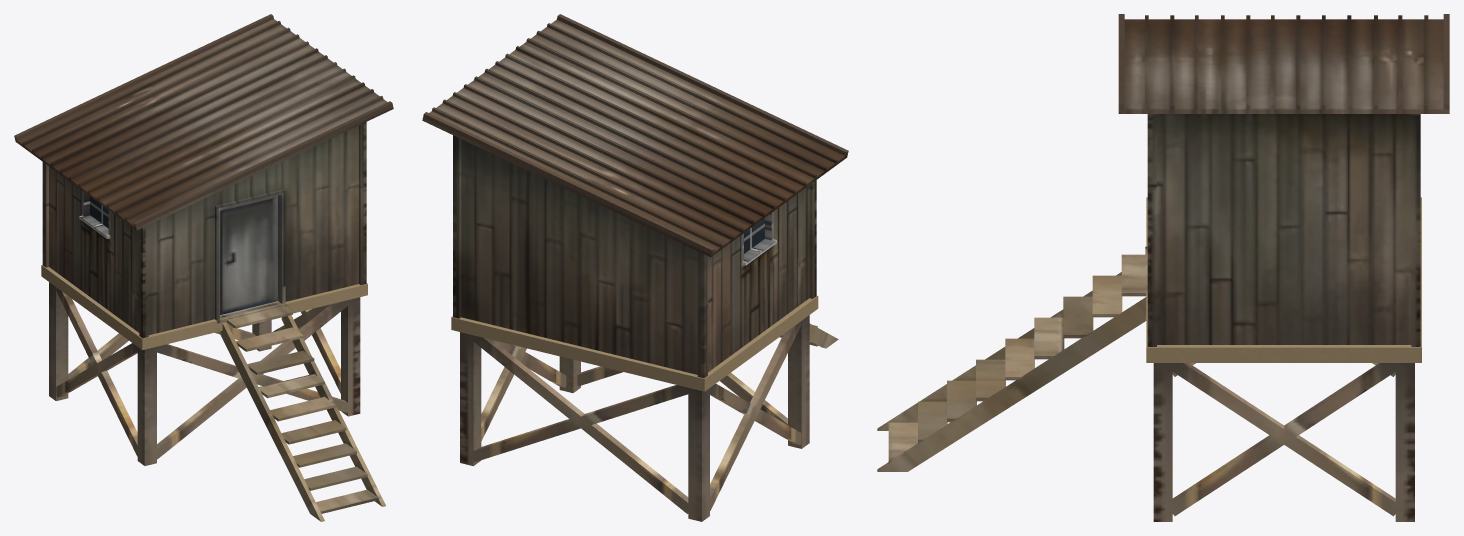
The model's file is civstoragec_cad.glb.
3 renders of one model, left to right at view 1: azimuth 30°, elevation 25°; view 2: azimuth 150°, elevation 25°; view 3: azimuth 270°, elevation 25°, orthographic. The views are drawn at different scales.
Parts seen in each view (by area): view 1: Object02; view 2: Object02; view 3: Object02.
Boxes of the visible parts, x1,y1,x2,y2 form: Object02: [14, 14, 393, 521]; Object02: [422, 14, 848, 521]; Object02: [877, 14, 1449, 521].
Size of the model in its own units: 5.31 by 6.2 by 7.47.
1 material, 1 textured.
